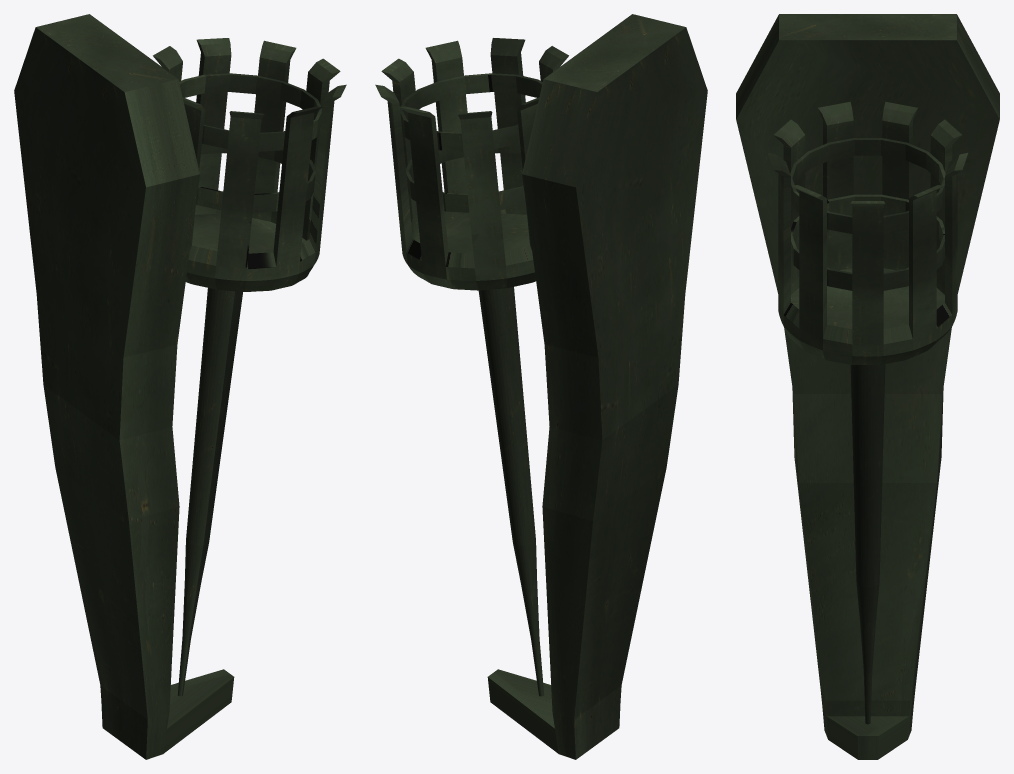
The model's file is sconce.fbx.
The picture shows the model from 3 angles, left to right: view 1: azimuth 30°, elevation 25°; view 2: azimuth 150°, elevation 25°; view 3: azimuth 270°, elevation 25°; orthographic projection.
Visible parts, largest first — view 1: Cube, Cylinder.001, Cylinder; view 2: Cube, Cylinder.001, Cylinder; view 3: Cube, Cylinder.001, Cylinder.
Part boxes in pixels (bbox=[...]): Cube: bbox=[14, 14, 234, 759]; Cylinder.001: bbox=[153, 38, 346, 291]; Cylinder: bbox=[177, 288, 242, 696]; Cube: bbox=[487, 14, 707, 759]; Cylinder.001: bbox=[375, 38, 568, 290]; Cylinder: bbox=[478, 287, 544, 696]; Cube: bbox=[736, 14, 999, 759]; Cylinder.001: bbox=[767, 101, 968, 364]; Cylinder: bbox=[850, 364, 885, 724].
Size of the model in its own units: 94.8 by 250 by 85.97.
Materials: 1 (1 with a texture image).
